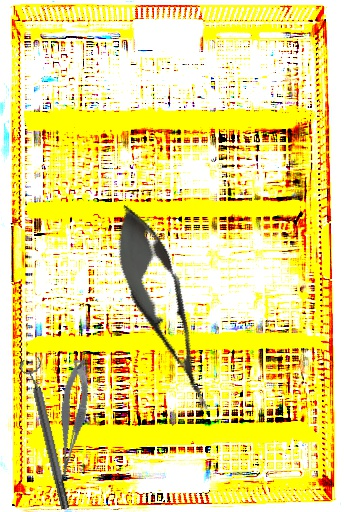Fixation Ring: (17, 356, 77, 512)
Micro Scissor: (98, 196, 231, 422), (43, 357, 99, 481)
